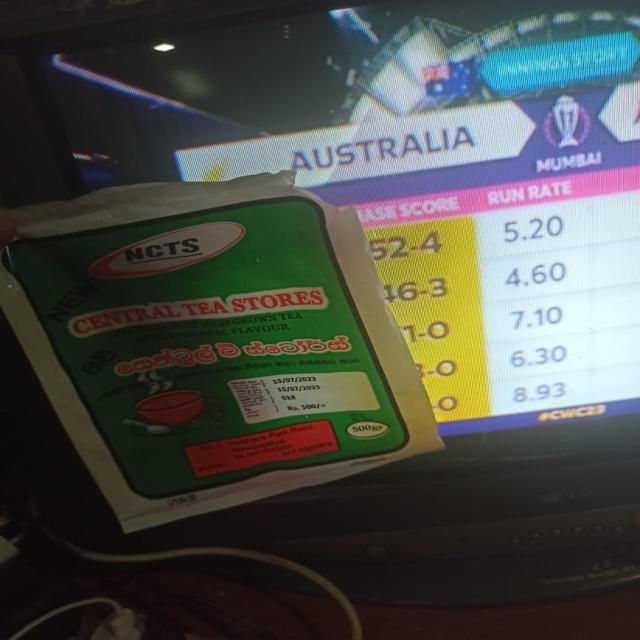Central Tea: (0, 197, 414, 545)
